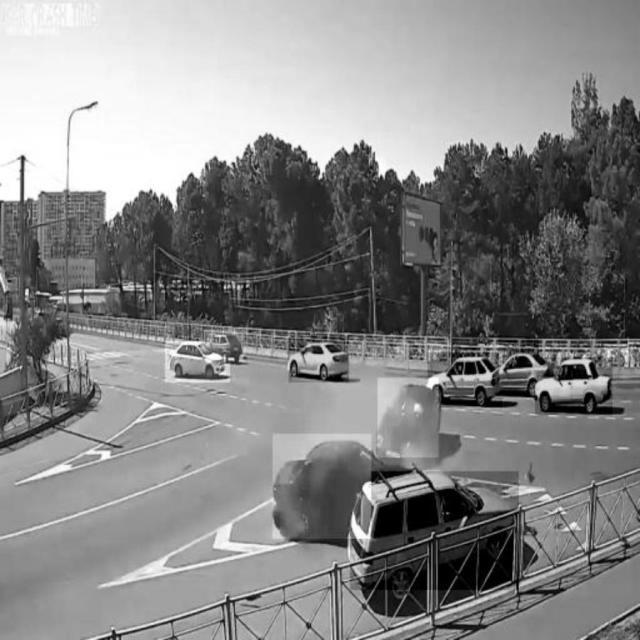vehicle: (350, 472, 518, 590), (273, 435, 371, 539), (378, 378, 439, 458), (535, 359, 613, 416), (428, 353, 502, 408), (289, 336, 349, 382), (165, 342, 229, 383), (499, 337, 539, 398), (206, 329, 246, 364)
